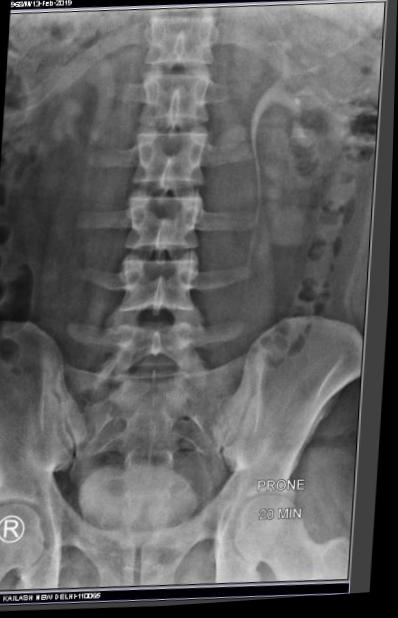bladder: (77, 469, 226, 563)
left kidney: (251, 7, 384, 210)
vertebrae: (143, 60, 227, 135)
